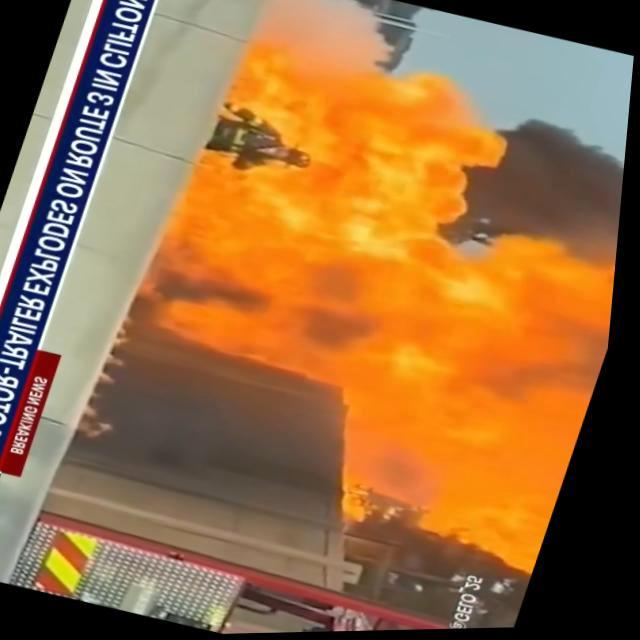fire: (99, 24, 637, 538)
